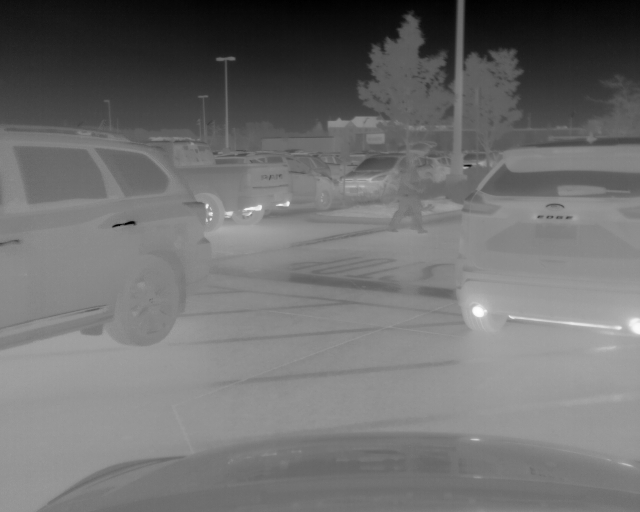car: (1, 122, 213, 348), (456, 138, 640, 338), (141, 141, 289, 224), (225, 153, 341, 219), (342, 152, 443, 203), (463, 150, 496, 168)
people: (388, 151, 428, 232)
